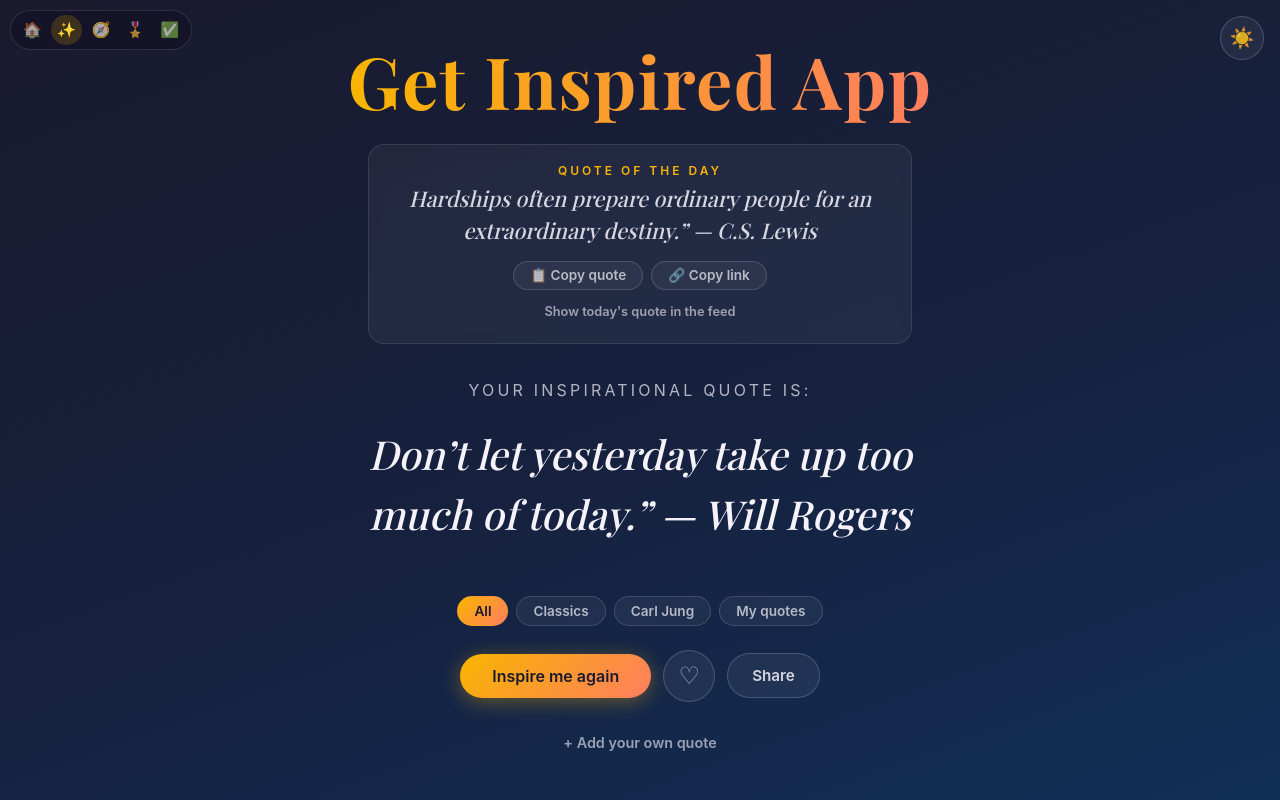
Test: Get Inspired smoke: core flows › adds a custom quote and shows it in My quotes
Click the button "+ Add your own quote" at [640, 742], box [555,730,725,754]
(page scrolled)
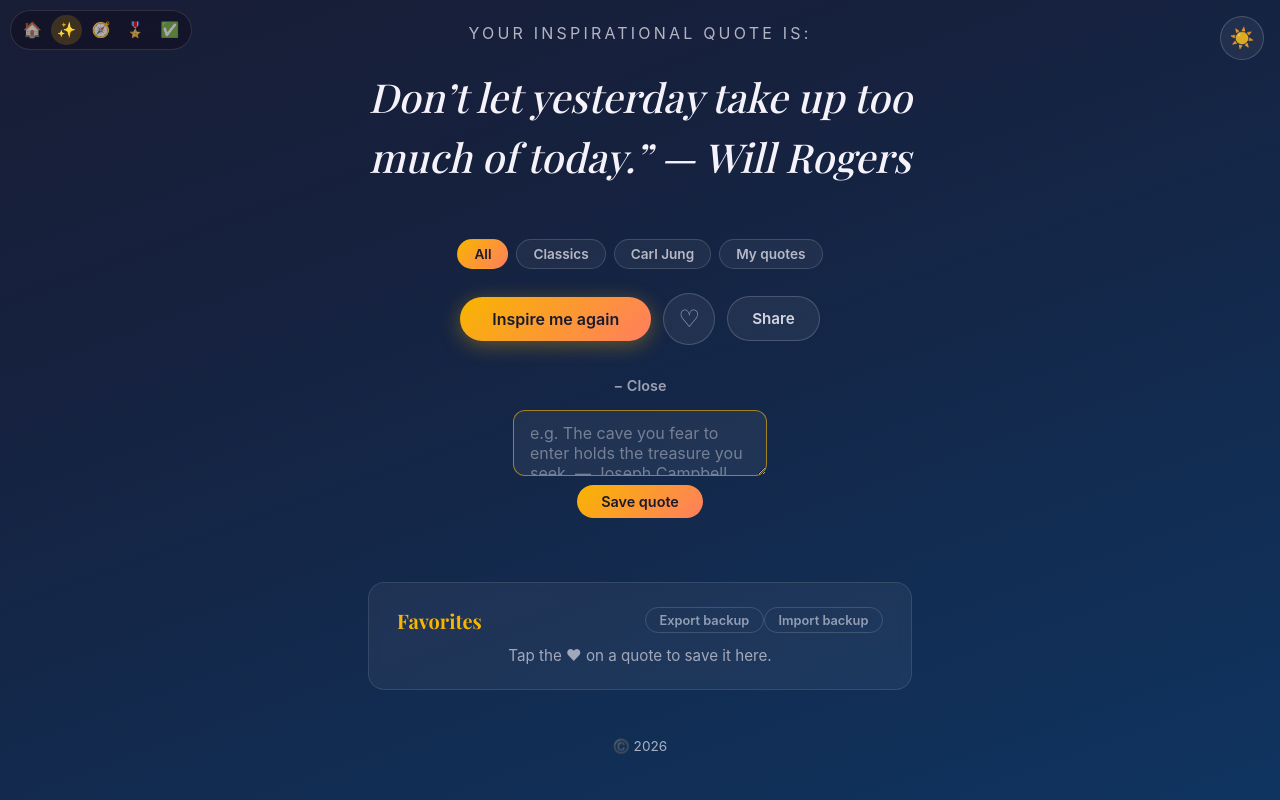
Replace the text in the text box named "Your quote" with "Test-drive the day. — Buffy" at [640, 442], box [513,410,767,476]
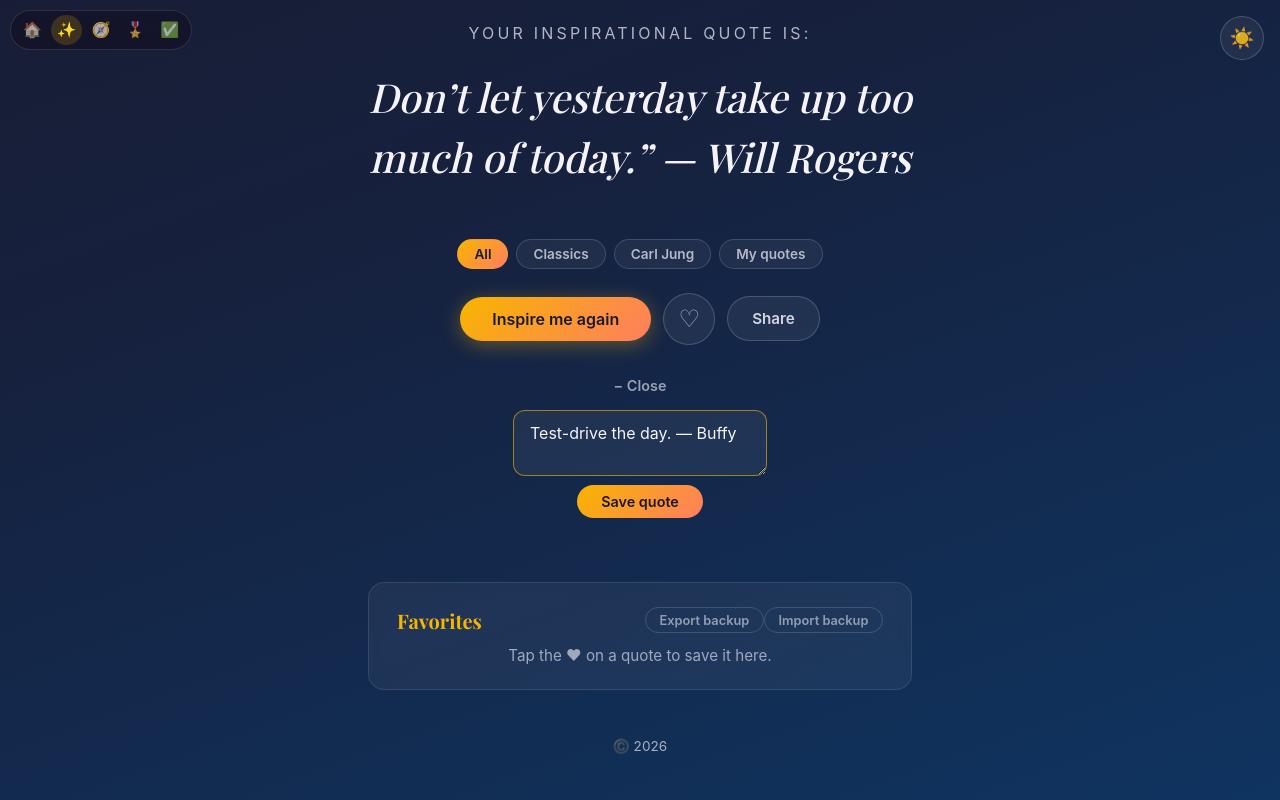
Click the button "Save quote" at [640, 502], box [577,485,703,518]
(page scrolled)
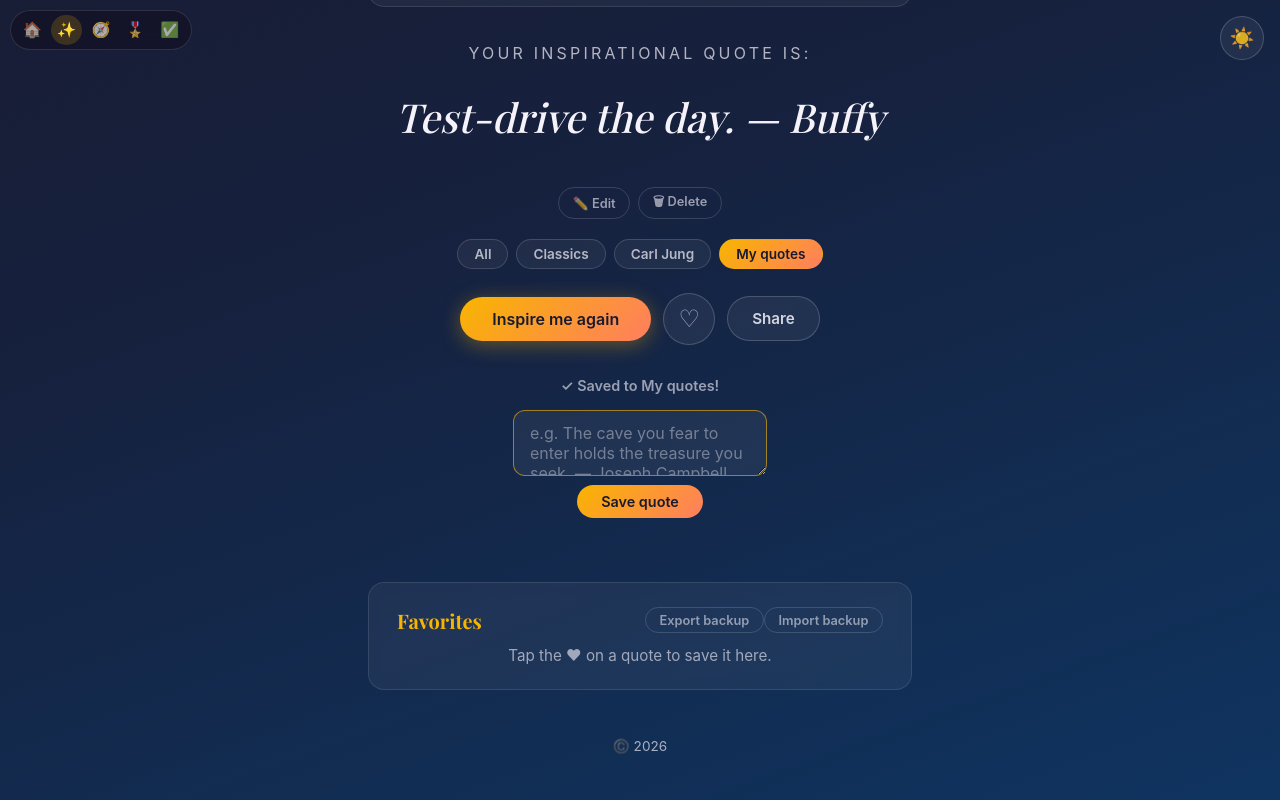
Expected: the heading "Test-drive the day. — Buffy" is shown, [396,87,884,147]
